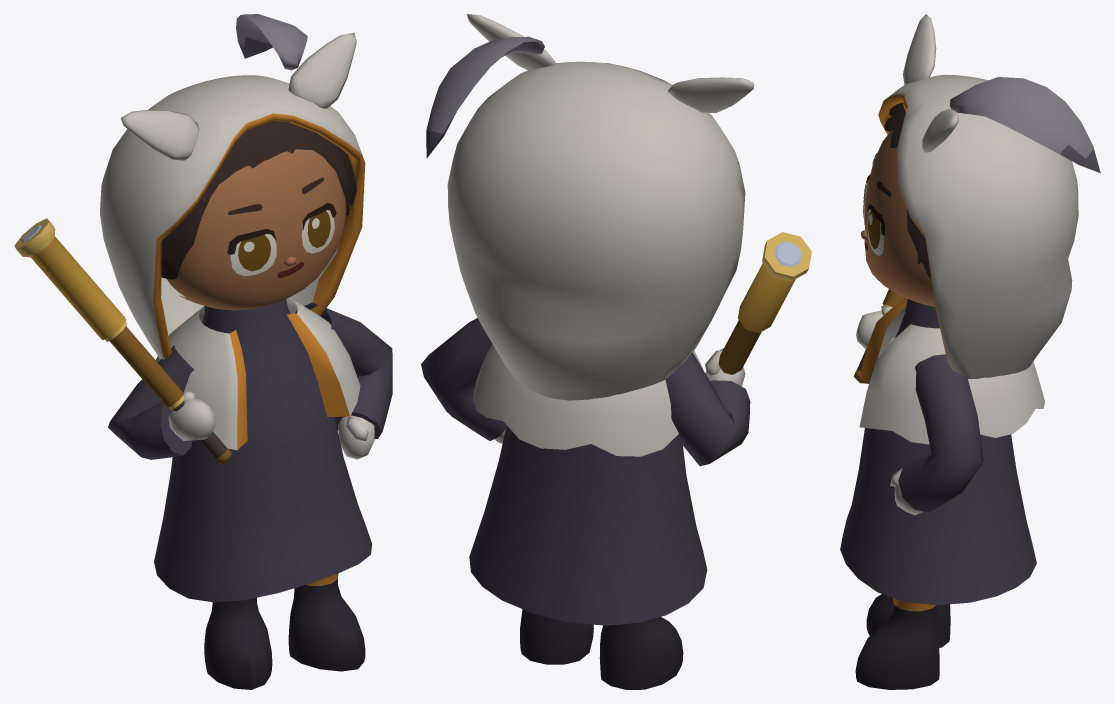
Rendered from lookout.glb.
3 renders of one model, left to right at view 1: azimuth 30°, elevation 25°; view 2: azimuth 150°, elevation 25°; view 3: azimuth 270°, elevation 25°, orthographic. The views are drawn at different scales.
Parts seen in each view (by area): view 1: lookout; view 2: lookout; view 3: lookout.
Boxes of the visible parts, x1,y1,x2,y2 form: lookout: (14, 14, 392, 689); lookout: (421, 14, 811, 689); lookout: (840, 14, 1100, 689).
Size of the model in its own units: 0.6157 by 0.9677 by 0.3869.
